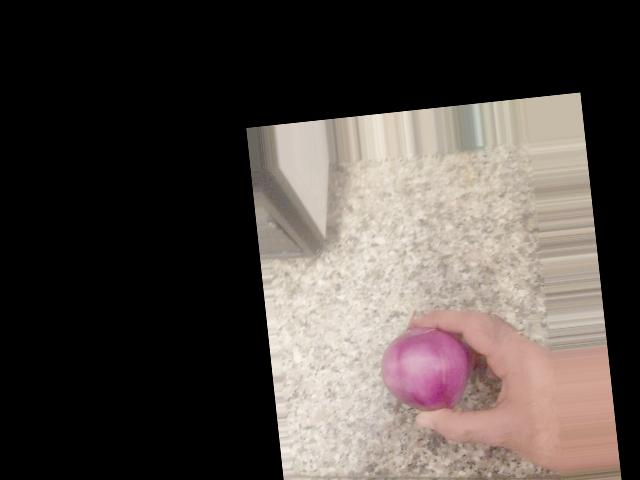onion: (280, 261, 379, 350)
